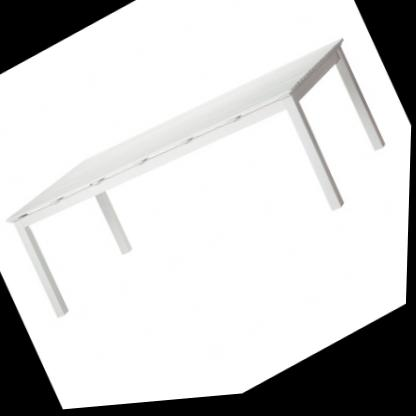Table: (0, 15, 415, 372)
